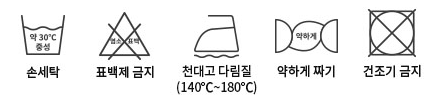KR_gentle_wring: (271, 11, 343, 58)
KR_hand_wash_30_neutral: (17, 9, 70, 60)
KR_no_chlorine_bleach: (98, 11, 152, 62)
KR_no_tumble_dry: (361, 5, 419, 59)
